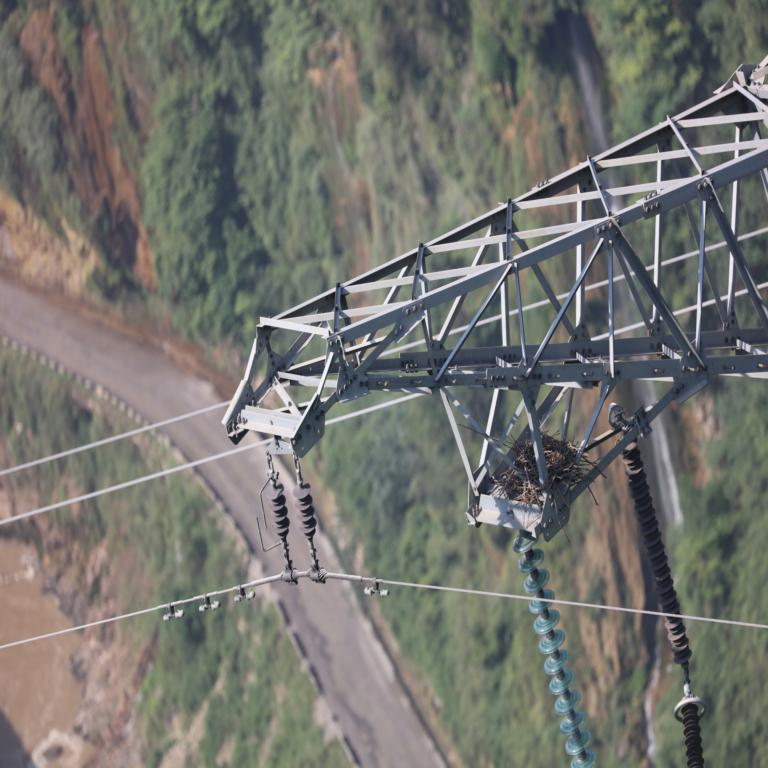nest: (503, 434, 574, 505)
